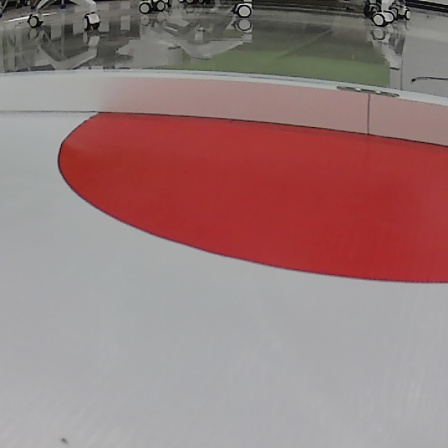red_base: (56, 109, 448, 294)
